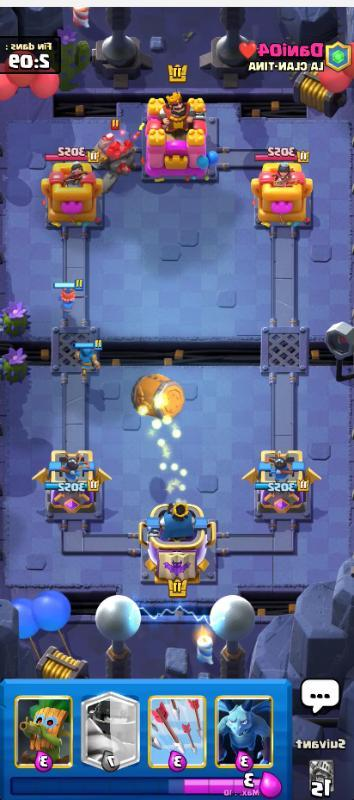enemy_golem: (86, 120, 147, 201)
player_goblin_barrel: (130, 367, 203, 506)
player_valkyrie: (51, 276, 89, 322)
player_wizard: (67, 334, 108, 382)
